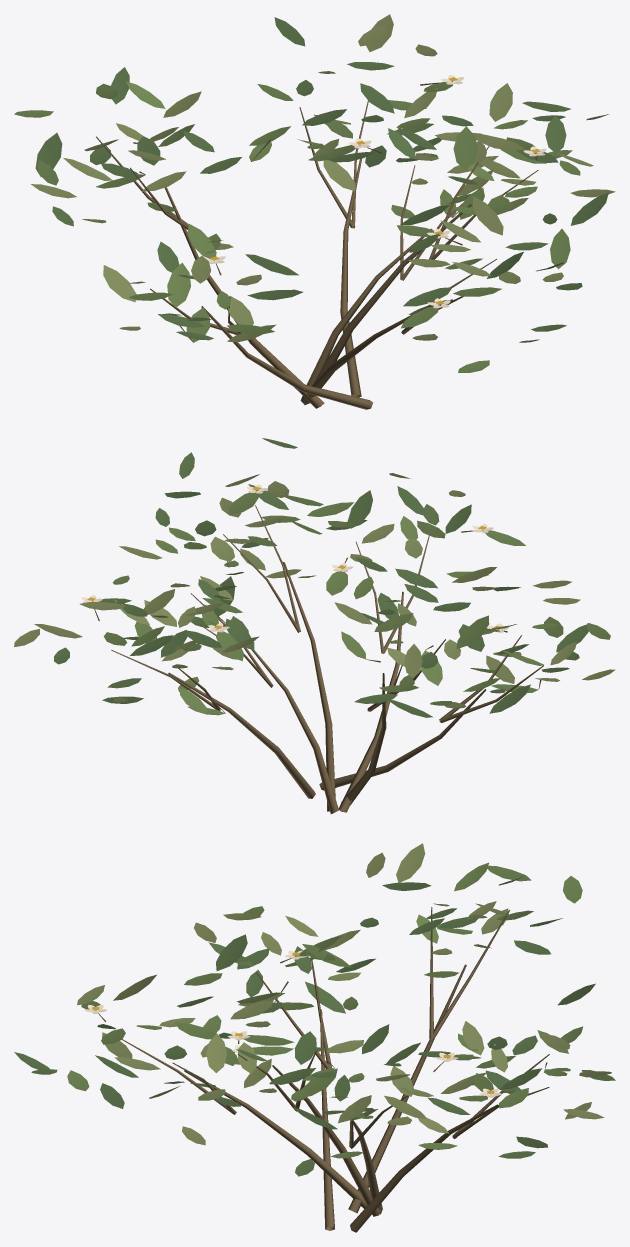
Rendered from Ciste_0_Low.fbx.
3 views of the same model, one above another, from view 1: azimuth 30°, elevation 25°; view 2: azimuth 150°, elevation 25°; view 3: azimuth 270°, elevation 25° (orthographic). The views are drawn at different scales.
Visible parts, largest first — view 1: Ciste_0_Low; view 2: Ciste_0_Low; view 3: Ciste_0_Low.
Boxes of the visible parts, x1,y1,x2,y2 form: Ciste_0_Low: [14, 14, 615, 409]; Ciste_0_Low: [14, 438, 615, 814]; Ciste_0_Low: [14, 843, 615, 1232].
Bounding box in the file's own units: 188 × 111 × 204.
